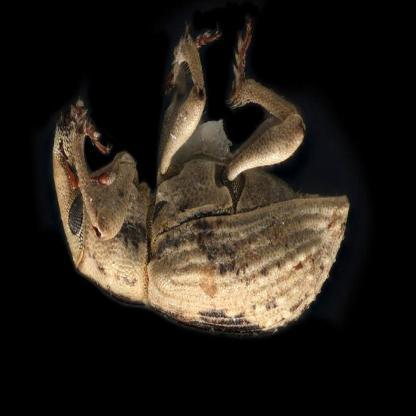rice-bug: (50, 21, 351, 332)
